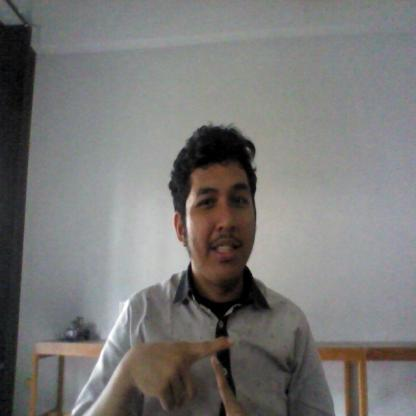T: (132, 334, 244, 416)
